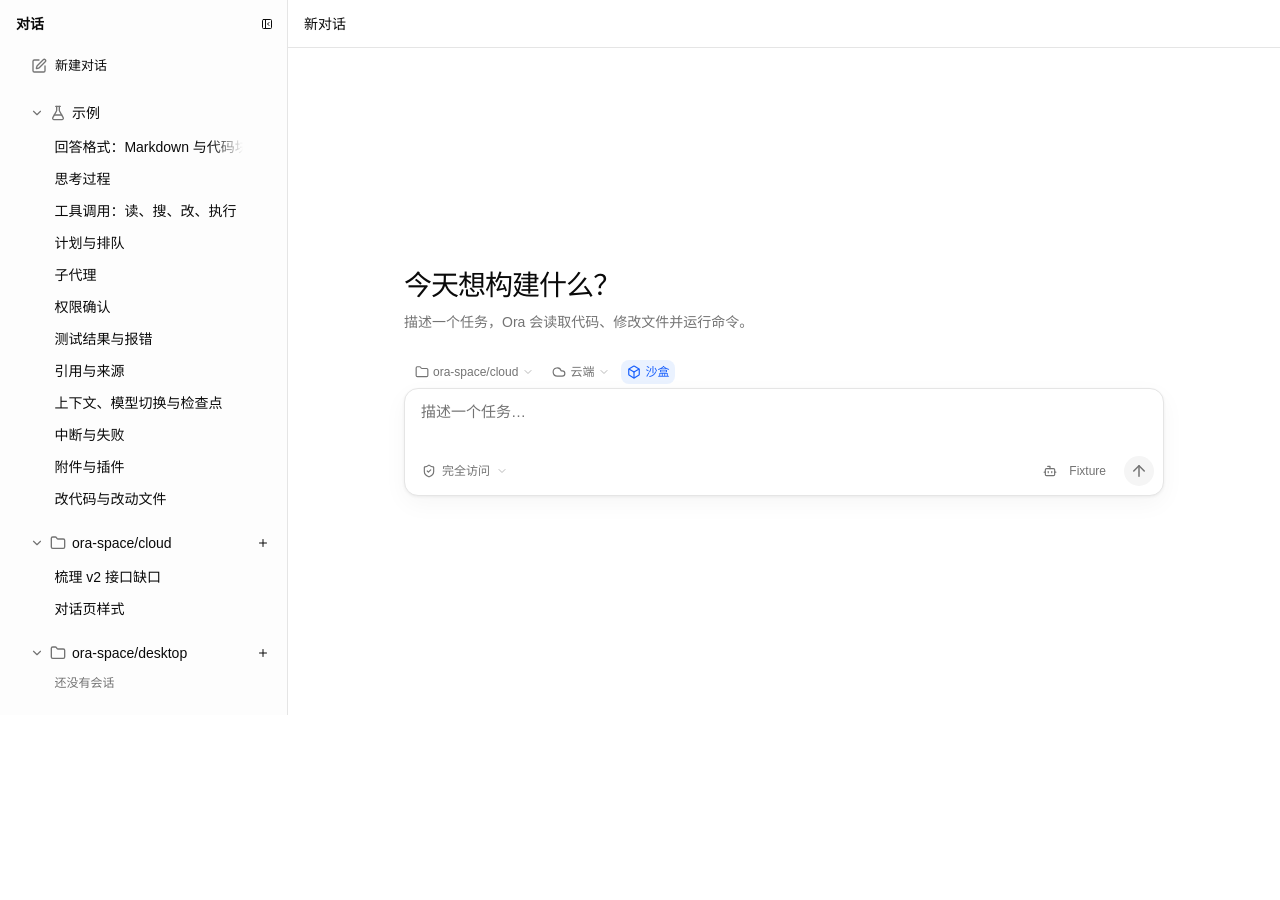
Test: chat page › opens a sample from the history and shows its work
This screenshot has width=1280, height=900.
Click the button "工具调用：读、搜、改、执行" at (149, 211), box [46,195,251,227]
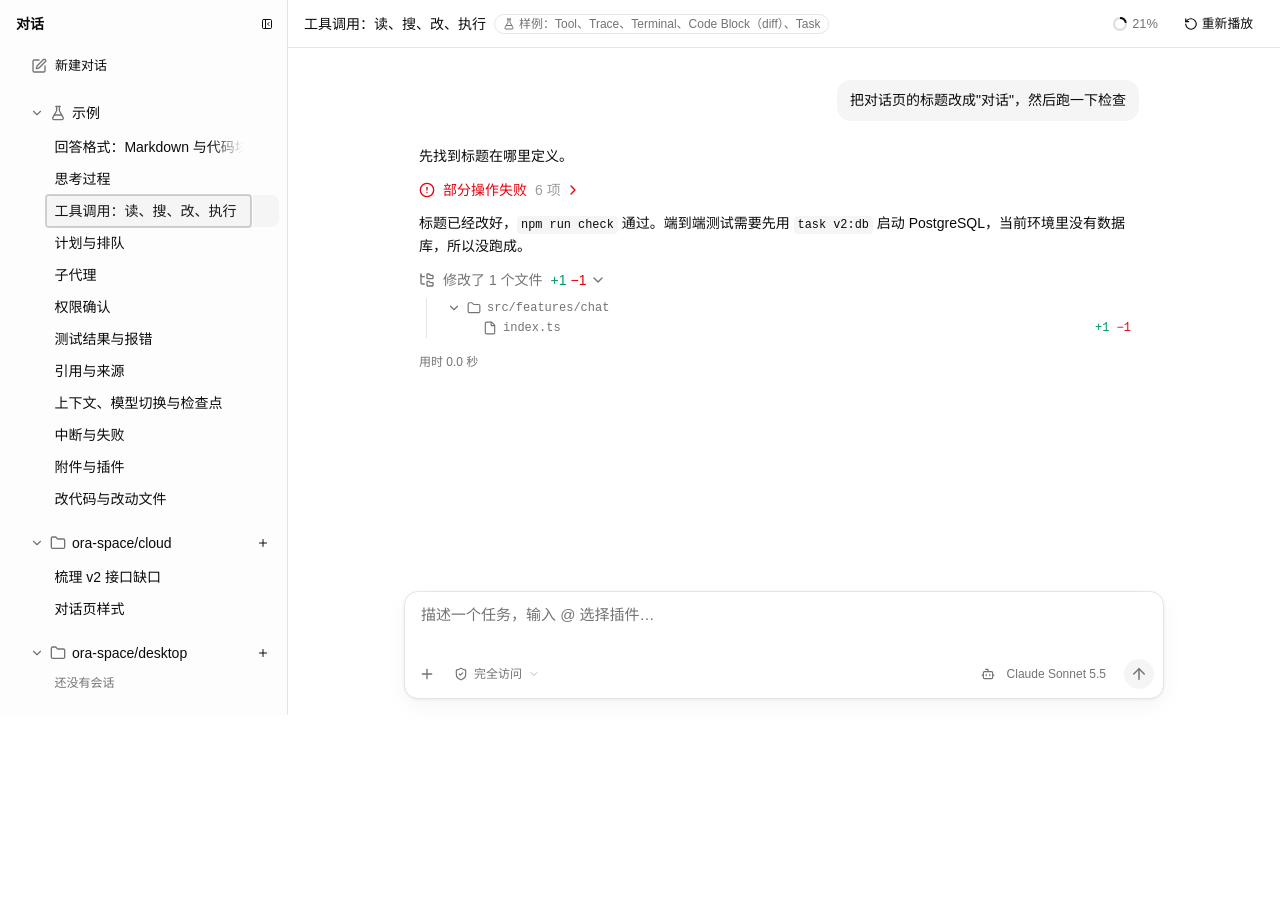
Now the heading "工具调用：读、搜、改、执行" is shown, box [304,14,486,34]
Now the button "把对话页的标题改成\"对话\"，然后跑一下检查" is shown, box [837,80,1139,121]
Now the text "部分操作失败" is shown
// The summary opens into the individual steps.
Click the text "部分操作失败" at (485, 190), box [443,180,527,200]
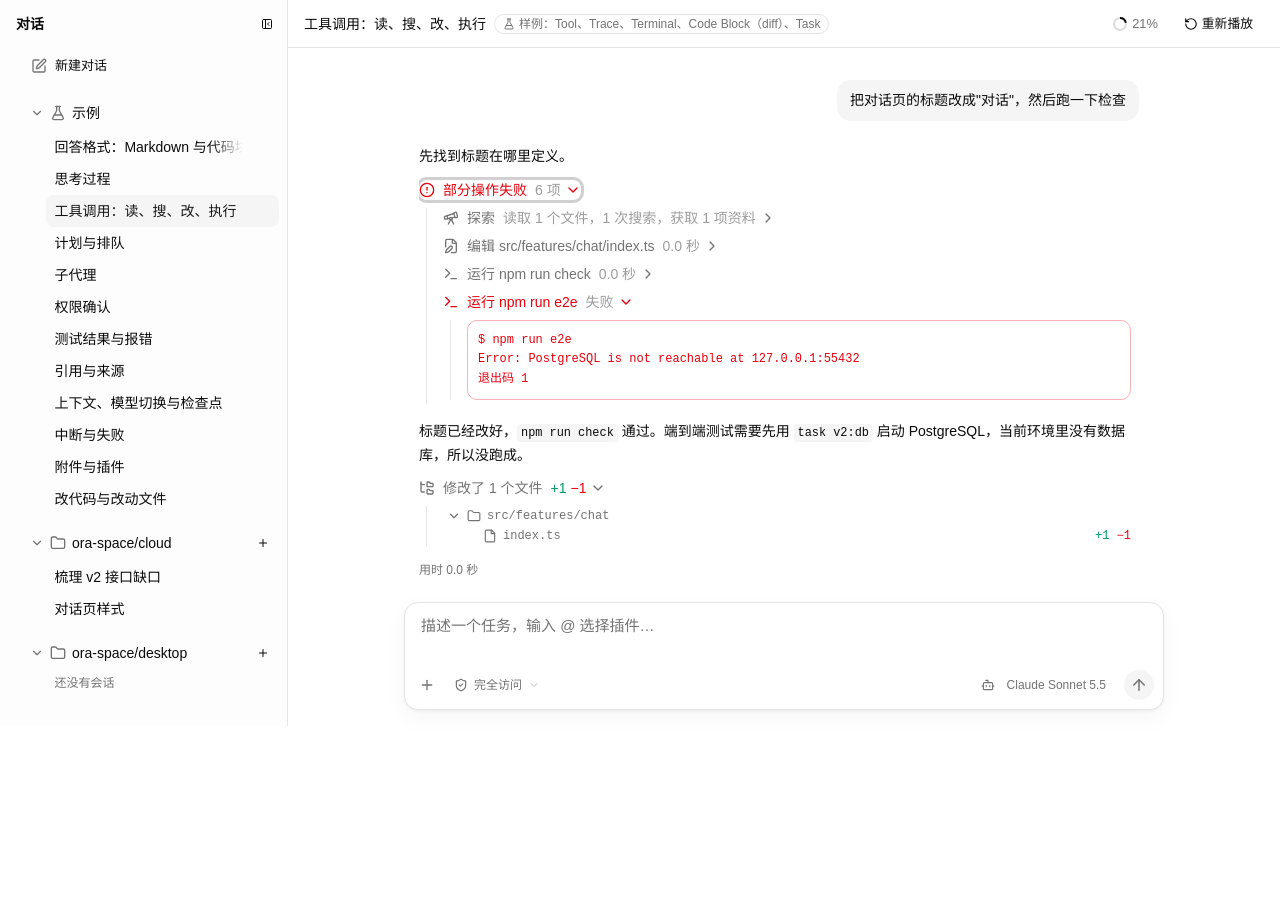
Now the text "运行 npm run e2e" is shown, box [467,292,578,312]
Now the text "PostgreSQL is not reachable" is shown, box [478,332,860,386]
